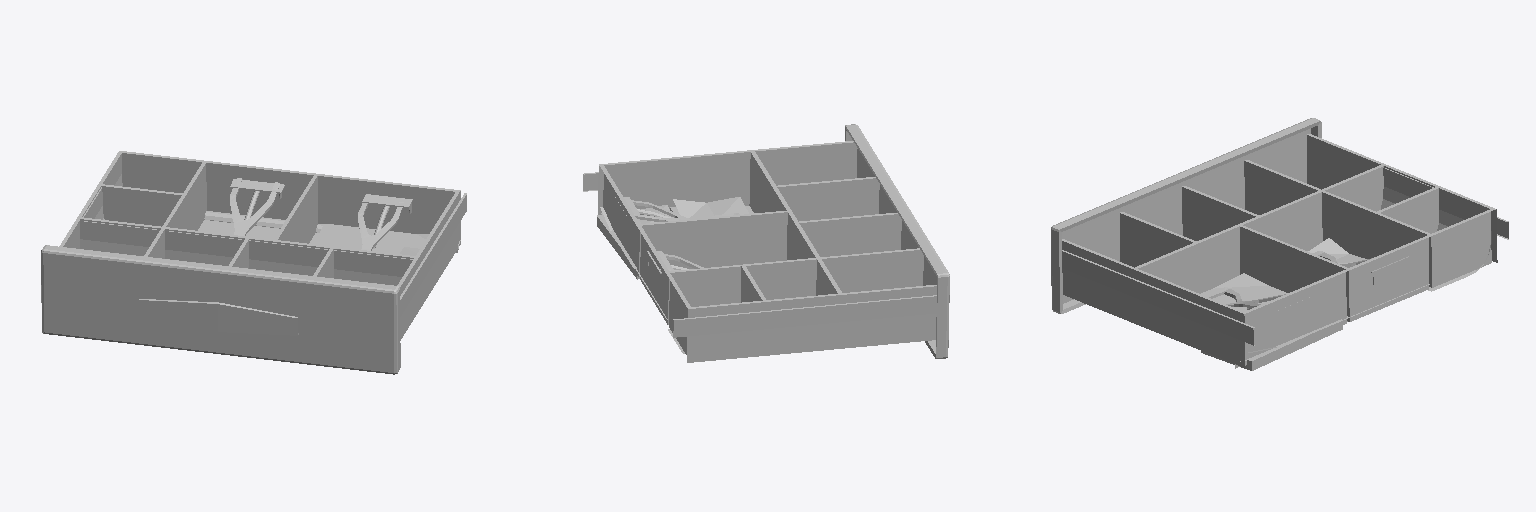
File: cash_register_part.obj
3 views of the same model, side by side, from view 1: azimuth 30°, elevation 25°; view 2: azimuth 150°, elevation 25°; view 3: azimuth 270°, elevation 25° (orthographic).
Parts seen in each view (by area): view 1: CashRegister_011_drawer_Cash_register.002; view 2: CashRegister_011_drawer_Cash_register.002; view 3: CashRegister_011_drawer_Cash_register.002.
Boxes of the visible parts, <box> form: CashRegister_011_drawer_Cash_register.002: <box>41,151,466,374</box>; CashRegister_011_drawer_Cash_register.002: <box>583,124,949,362</box>; CashRegister_011_drawer_Cash_register.002: <box>1051,118,1508,370</box>.
Bounding box in the file's own units: 2.6 × 0.5345 × 2.61.